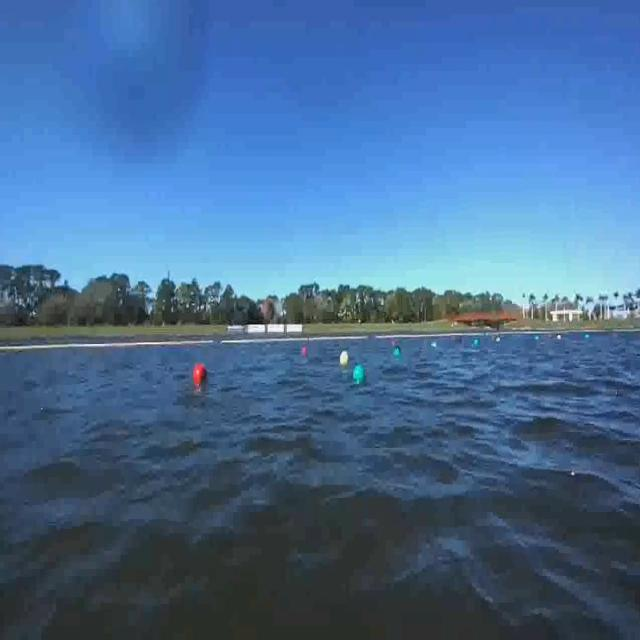green-buoy: (352, 364, 368, 386)
red-buoy: (196, 363, 208, 383)
